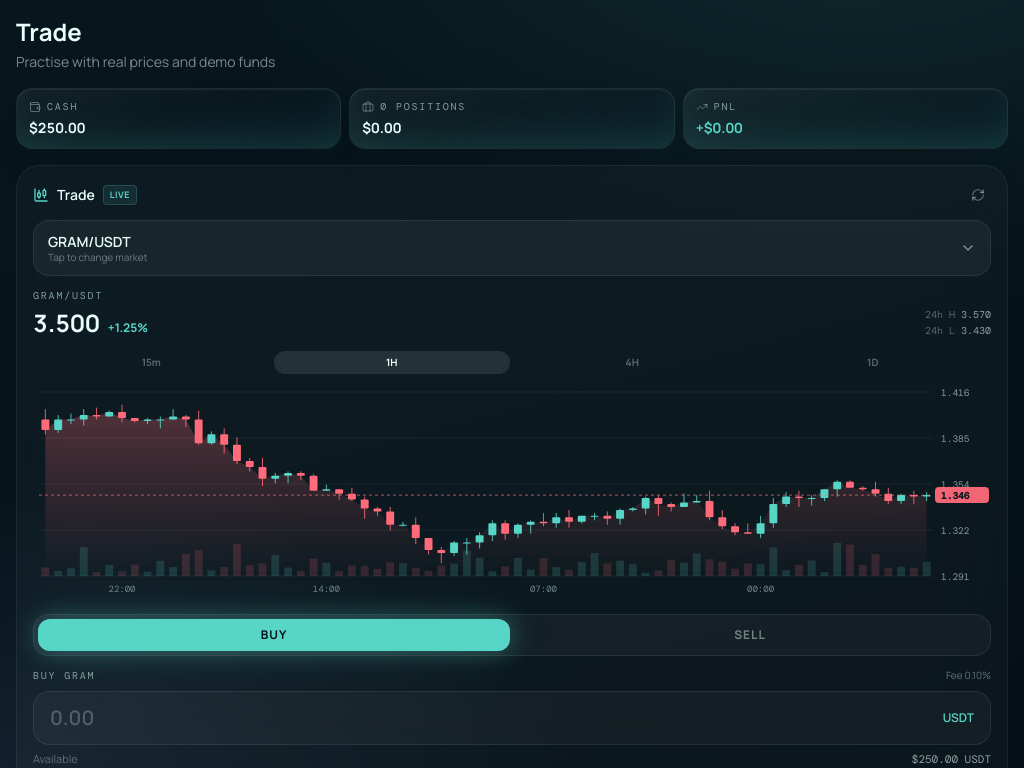
Scenario: Trade page › buys with the wallet balance and closes the position
The image size is (1024, 768).
Expected: the text with test id "trade-last-price" reads "3.500", [33, 306, 100, 339]
Expected: the text with test id "trade-stat-cash" reads "$250.00", [29, 118, 86, 137]
Note: Size and send the order
In the number field with test id "trade-amount-input": (492, 718) [50, 704, 935, 732], type "50"
(page scrolled)
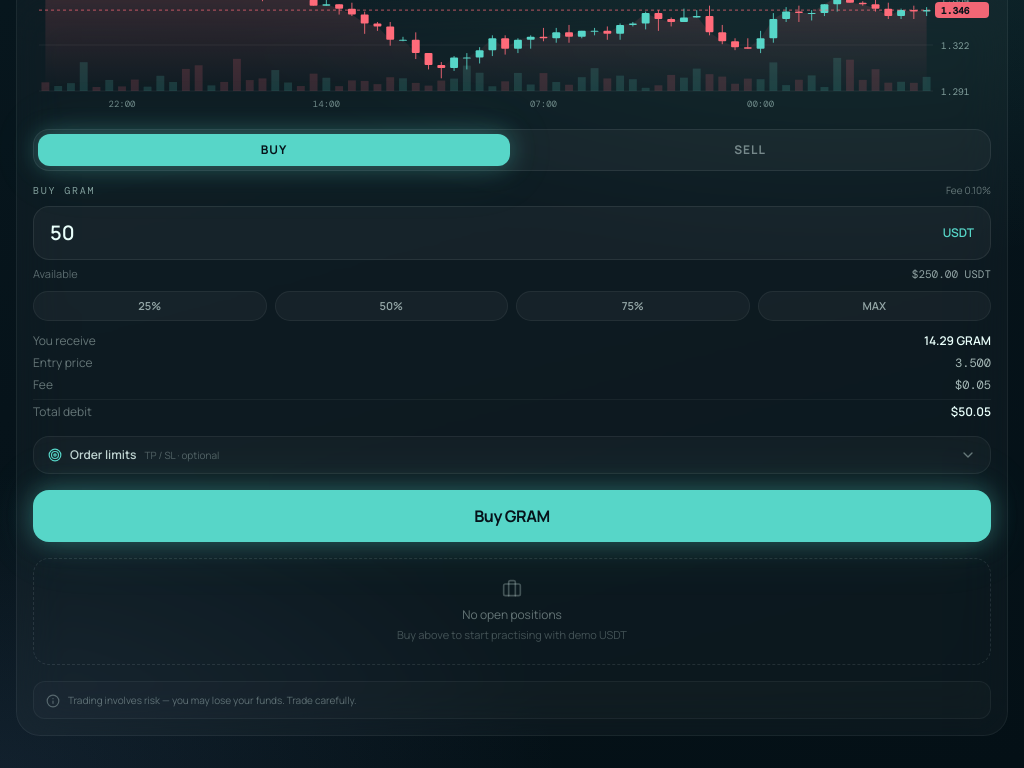
Expected: the text with test id "trade-preview-qty" reads "14.29 GRAM", [924, 333, 991, 349]
Click the button with test id "trade-buy-submit": click(512, 516) [33, 490, 991, 542]
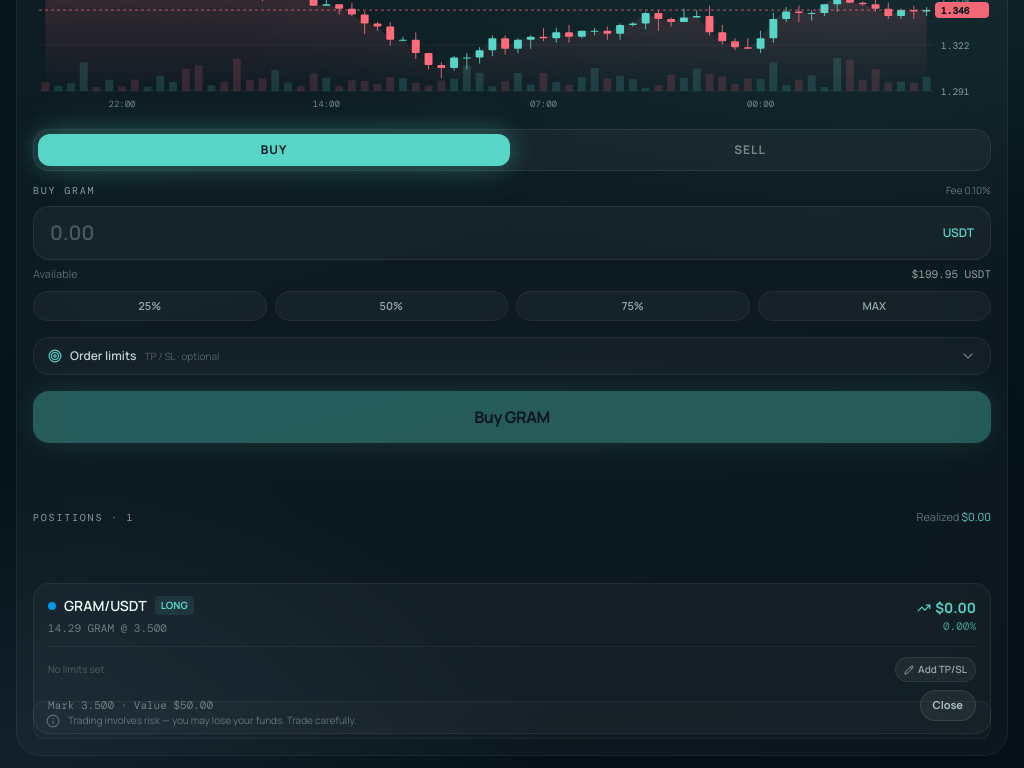
Expected: the element with test id "position-TONUSDT" shows "@ 3.500", [33, 582, 991, 734]
Note: Close (tap to arm, tap again to confirm)
Click the button with test id "close-position-TONUSDT": click(948, 705) [920, 690, 976, 720]
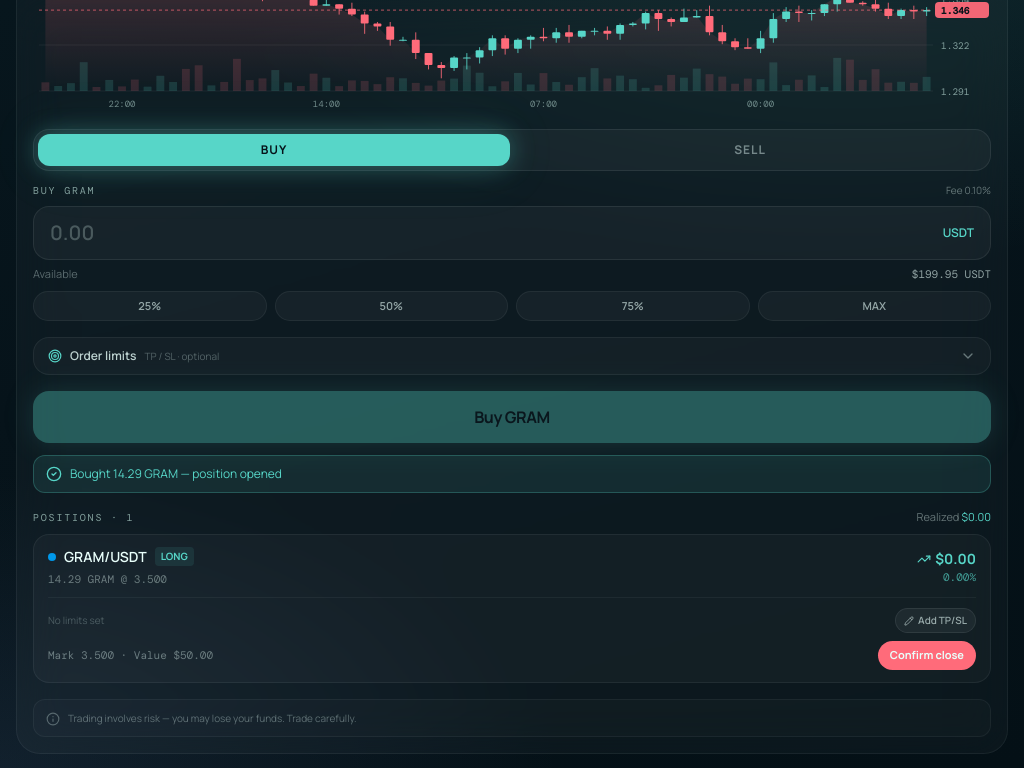
Expected: the button with test id "close-position-TONUSDT" reads "Confirm close"
Click the button with test id "close-position-TONUSDT": click(927, 655) [878, 641, 976, 670]
(page scrolled)
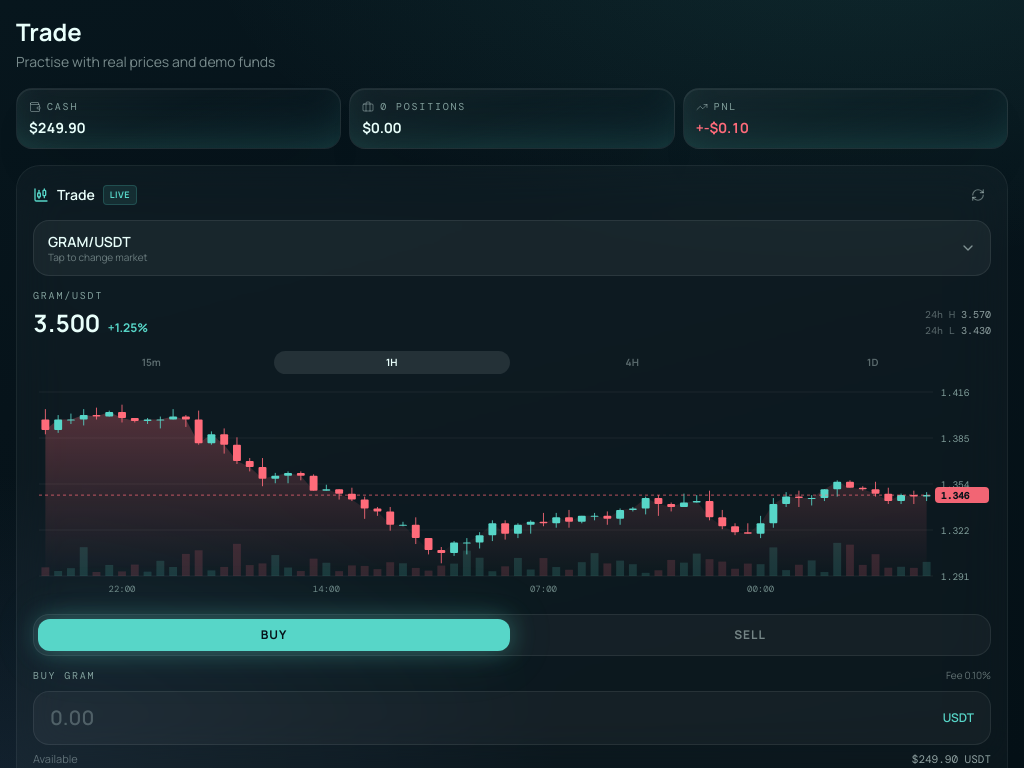
Expected: the text with test id "trade-stat-cash" reads "$249.90", [29, 118, 86, 137]
Expected: the text with test id "trade-stat-pnl" shows "-$0.10", [696, 118, 749, 137]
